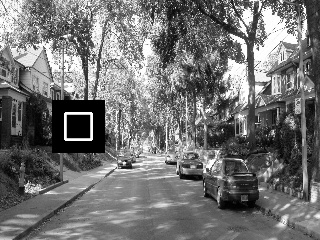square: (52, 100, 105, 152)
